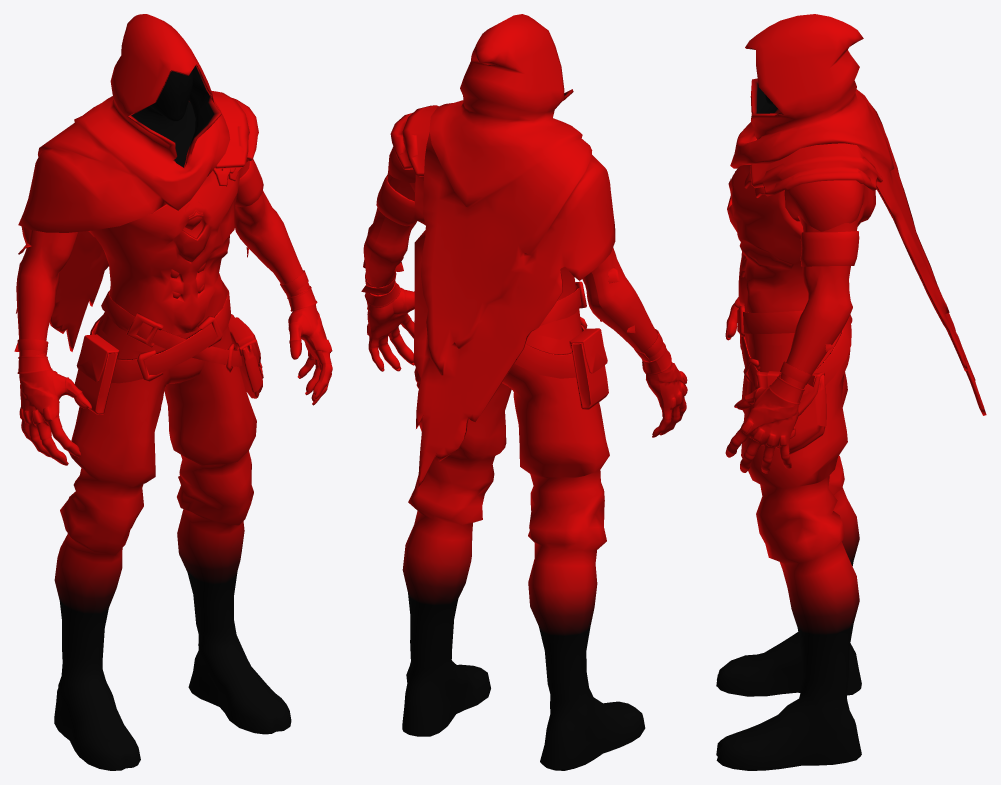
Rendered from omenSimple.fbx.
3 views of the same model, side by side, from view 1: azimuth 30°, elevation 25°; view 2: azimuth 150°, elevation 25°; view 3: azimuth 270°, elevation 25° (orthographic). The views are drawn at different scales.
Parts seen in each view (by area): view 1: TP_Wraith_S0_Skelmesh.001; view 2: TP_Wraith_S0_Skelmesh.001; view 3: TP_Wraith_S0_Skelmesh.001.
Part boxes in pixels (x1,y1,x2,y2): TP_Wraith_S0_Skelmesh.001: [14, 14, 332, 770]; TP_Wraith_S0_Skelmesh.001: [361, 14, 687, 770]; TP_Wraith_S0_Skelmesh.001: [716, 14, 986, 770].
Size of the model in its own units: 94.67 by 210 by 72.5.
